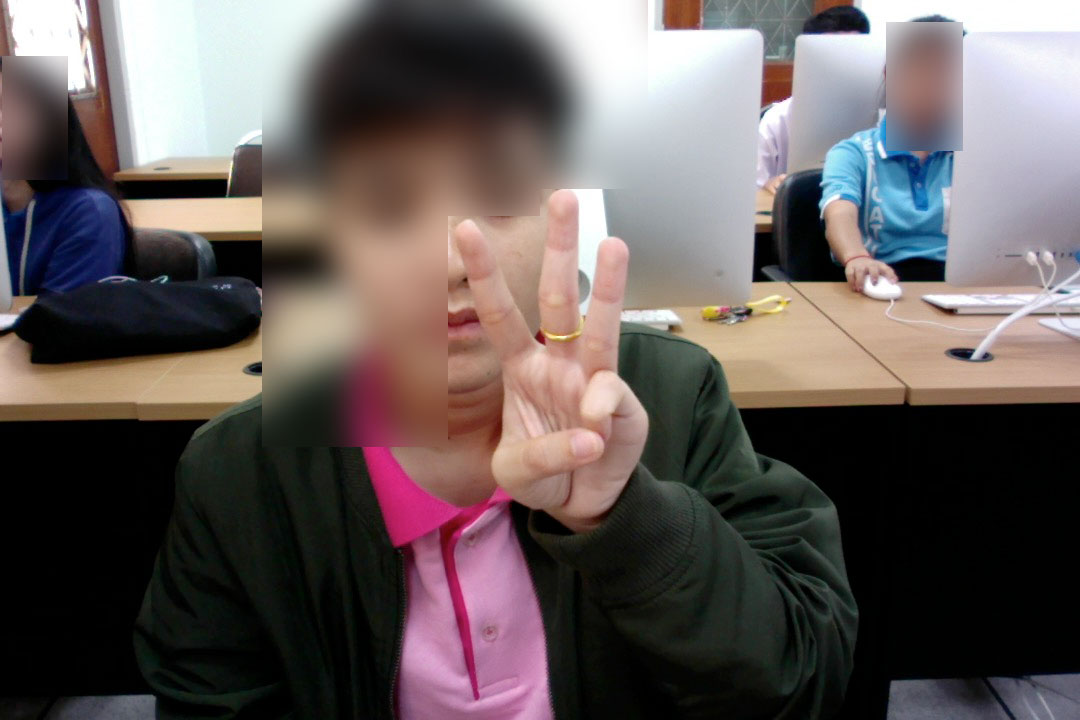wor: (434, 175, 663, 544)
